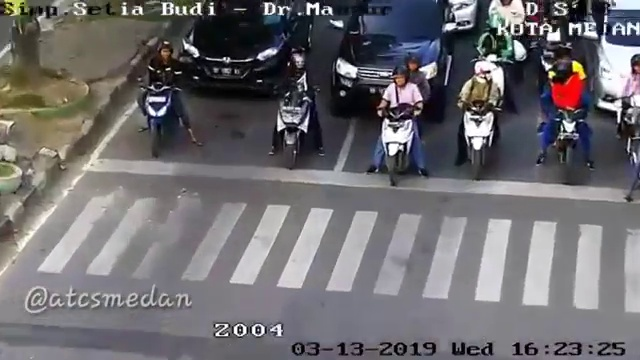car: (326, 2, 450, 126), (178, 4, 315, 100)
motorbike: (536, 53, 601, 183), (134, 42, 202, 159), (370, 56, 434, 179), (453, 55, 504, 178), (276, 42, 323, 171), (482, 3, 528, 97), (540, 7, 574, 97), (616, 56, 640, 169)
